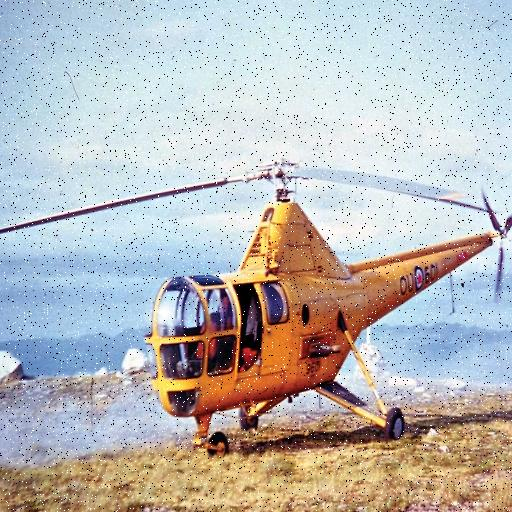helicopter: (1, 154, 512, 463)
